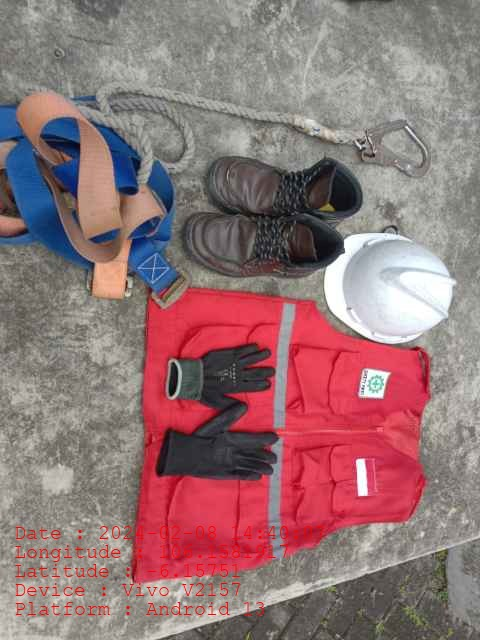HELM: (325, 233, 454, 345)
SARUNG_TANGAN: (160, 403, 277, 481), (166, 341, 274, 410)
SEPATU: (186, 153, 352, 277)
